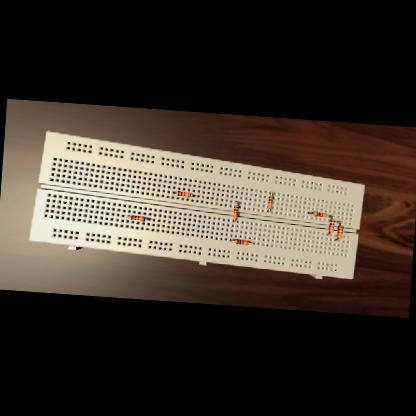breadboard: (27, 129, 366, 281)
resistor: (328, 219, 336, 232), (130, 215, 146, 221), (337, 225, 344, 238), (313, 211, 327, 217), (233, 204, 239, 218), (268, 195, 274, 208), (177, 191, 191, 196), (235, 240, 248, 245)
wire: (337, 221, 342, 224), (330, 216, 334, 218), (146, 218, 150, 220), (328, 232, 332, 234), (335, 238, 339, 240), (231, 239, 235, 241), (191, 194, 194, 196), (268, 210, 271, 212), (270, 192, 272, 194), (236, 202, 238, 204), (233, 219, 235, 221), (174, 192, 176, 193), (128, 216, 130, 217), (249, 242, 250, 244)
